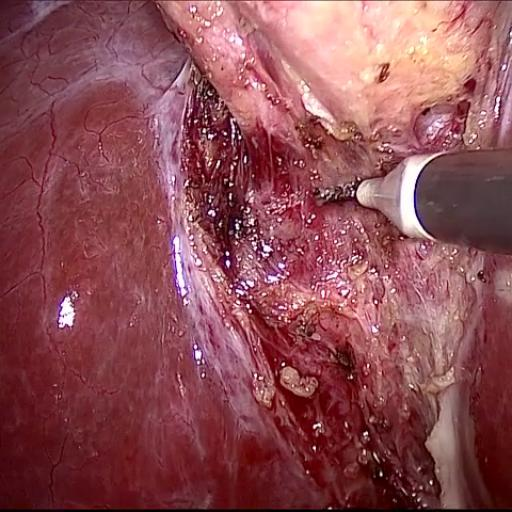Hook: (311, 115, 445, 289)
